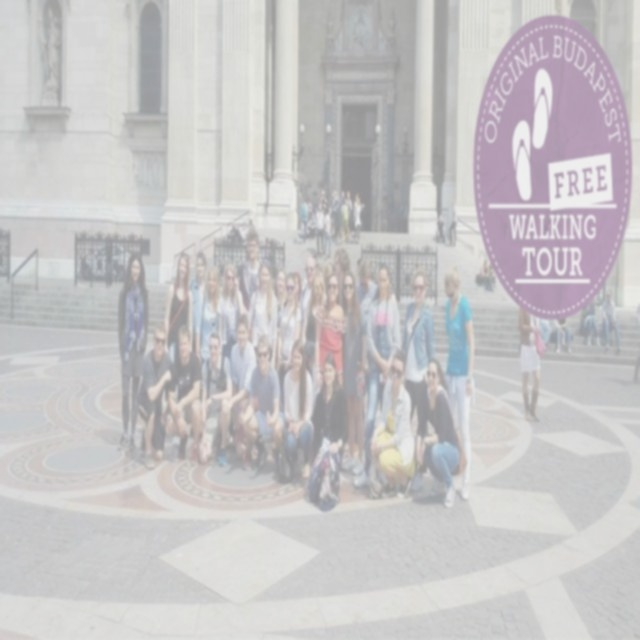pessoa: (353, 258, 402, 491), (414, 354, 469, 510), (443, 262, 476, 502), (235, 332, 286, 476), (114, 248, 150, 451), (402, 271, 436, 474), (370, 348, 416, 498), (308, 350, 349, 500), (338, 266, 367, 478), (136, 321, 176, 469), (221, 312, 259, 464), (164, 321, 203, 464), (282, 336, 316, 479), (198, 330, 233, 468), (314, 271, 346, 391), (277, 270, 302, 414), (246, 258, 278, 370), (164, 249, 194, 366), (216, 262, 246, 362), (194, 264, 222, 369), (518, 303, 541, 424), (36, 5, 59, 106), (310, 244, 352, 298), (294, 252, 316, 348), (302, 267, 328, 342), (190, 249, 208, 354), (354, 256, 379, 324), (602, 286, 622, 352), (243, 225, 260, 300), (274, 267, 290, 333), (581, 298, 601, 349), (630, 298, 640, 386), (331, 180, 344, 242), (555, 316, 573, 355), (538, 316, 555, 355), (290, 260, 304, 304), (322, 204, 333, 259), (298, 194, 310, 243), (478, 256, 494, 292), (315, 202, 325, 255), (340, 194, 350, 247), (448, 198, 458, 248), (238, 212, 254, 243), (352, 198, 362, 244), (306, 193, 315, 241), (352, 188, 362, 230), (344, 190, 352, 238), (436, 213, 446, 244), (488, 261, 496, 288), (295, 216, 304, 238), (320, 184, 328, 203)
